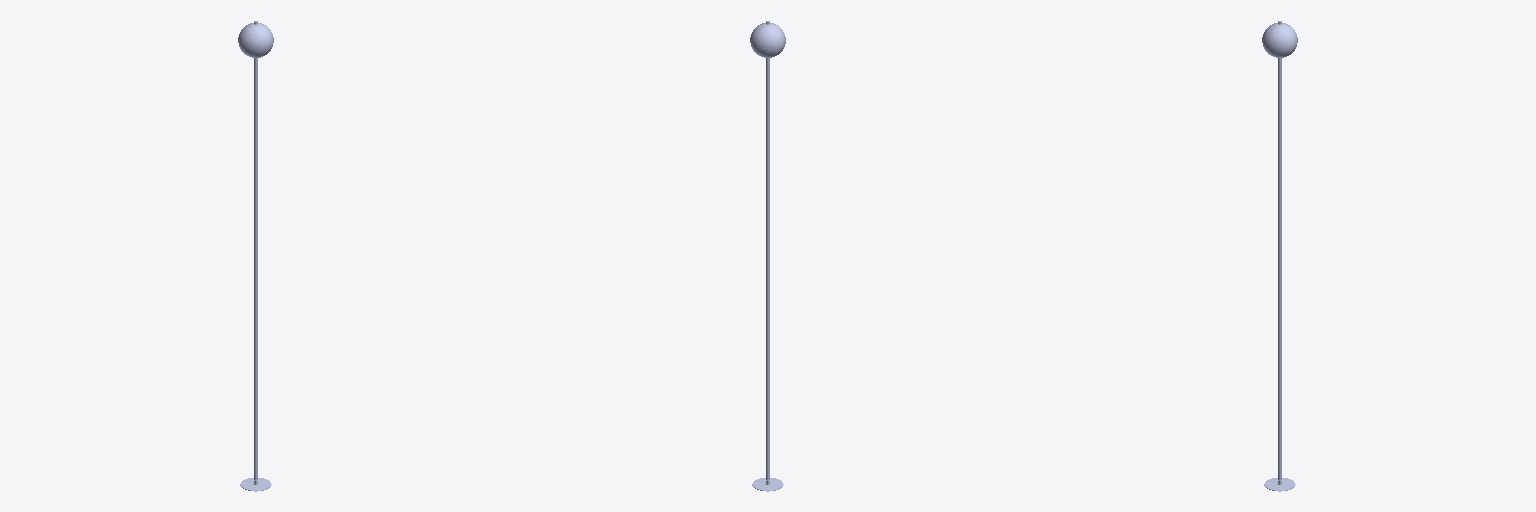
URDF robot description (niot_flower_red):
<robot
  name="niot_flower_red">
  <link
    name="base_link">
    <inertial>
      <origin
        xyz="0.028913 2.91 0.18357"
        rpy="0 0 0" />
      <mass
        value="7.5827" />
      <inertia
        ixx="3.7733"
        ixy="-1.0053E-16"
        ixz="2.7481E-33"
        iyy="1.0174E-32"
        iyz="1.2251E-16"
        izz="3.7733" />
    </inertial>
    <visual>
      <origin
        xyz="0 0 0"
        rpy="0 0 0" />
      <geometry>
        <mesh
          filename="package://niot_flower_red/meshes/base_link.STL" scale="0.75 0.75 0.75"/>
      </geometry>
      <material
        name="">
        <color
          rgba="0.79216 0.81961 0.93333 1" />
      </material>
    </visual>
    <collision>
      <origin
        xyz="0 0 0"
        rpy="0 0 0" />
      <geometry>
        <mesh
          filename="package://niot_flower_red/meshes/base_link.STL" scale="0.75 0.75 0.75"/>
      </geometry>
    </collision>
  </link>
  <gazebo reference="base_link">
    <material>Gazebo/Red</material>
</gazebo>
<gazebo>
<static>true</static>
</gazebo>
</robot>

--- Render facts (derived) ---
The picture shows the robot from 3 angles, left to right: view 1: azimuth 30°, elevation 25°; view 2: azimuth 150°, elevation 25°; view 3: azimuth 270°, elevation 25°; orthographic projection.
Model niot_flower_red with 1 links and 0 joints (none), rooted at base_link, posed all joints at 0.
Visible links, largest first — view 1: base_link; view 2: base_link; view 3: base_link.
Boxes of the visible links, x1,y1,x2,y2 form: base_link: (238, 21, 273, 491); base_link: (750, 21, 785, 491); base_link: (1262, 21, 1297, 491).
Bounding box of the posed robot: 0.1711 × 0.1714 × 2.46 m (x, y, z).
1 mesh visuals loaded from 1 distinct referenced files (1 binary STL).
